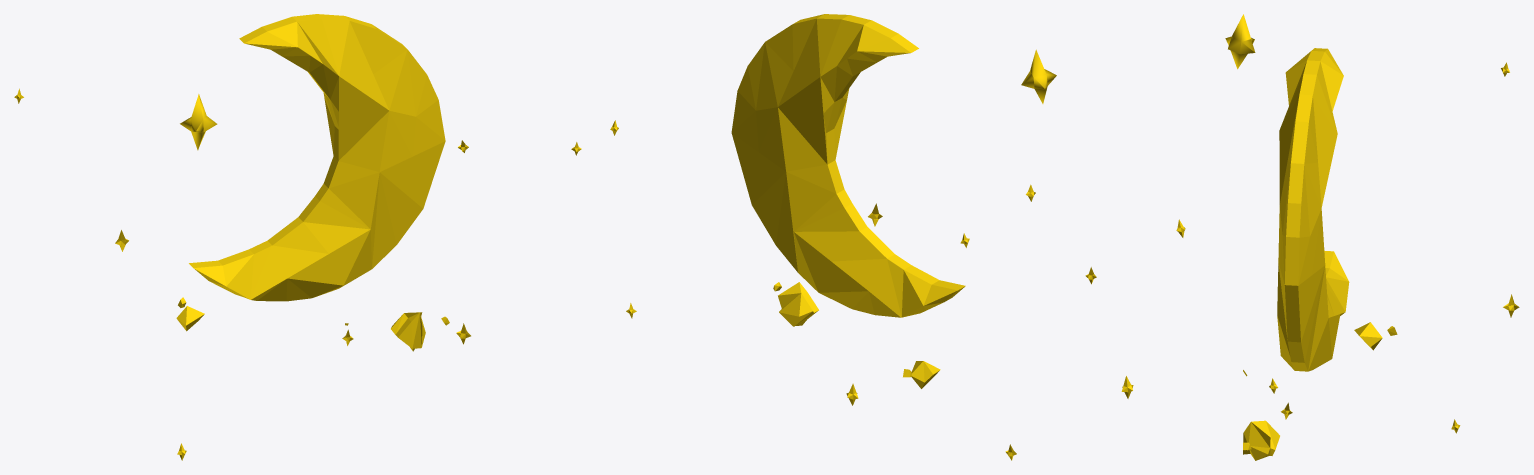
Rendered from moon+lowpoly.obj.
3 views of the same model, side by side, from view 1: azimuth 30°, elevation 25°; view 2: azimuth 150°, elevation 25°; view 3: azimuth 270°, elevation 25° (orthographic). The views are drawn at different scales.
Visible parts, largest first — view 1: Untitled, model, Object001; view 2: Untitled, model, Object001; view 3: Untitled, model, Object001.
Boxes of the visible parts, x1,y1,x2,y2 form: Untitled: [189, 14, 445, 301]; model: [14, 88, 581, 460]; Object001: [180, 94, 217, 150]; Untitled: [731, 14, 965, 317]; model: [610, 120, 1035, 460]; Object001: [1021, 49, 1056, 103]; Untitled: [1277, 48, 1349, 371]; model: [1085, 62, 1519, 460]; Object001: [1225, 14, 1255, 69].
Bounding box in the file's own units: 94.69 × 79.73 × 74.01.
